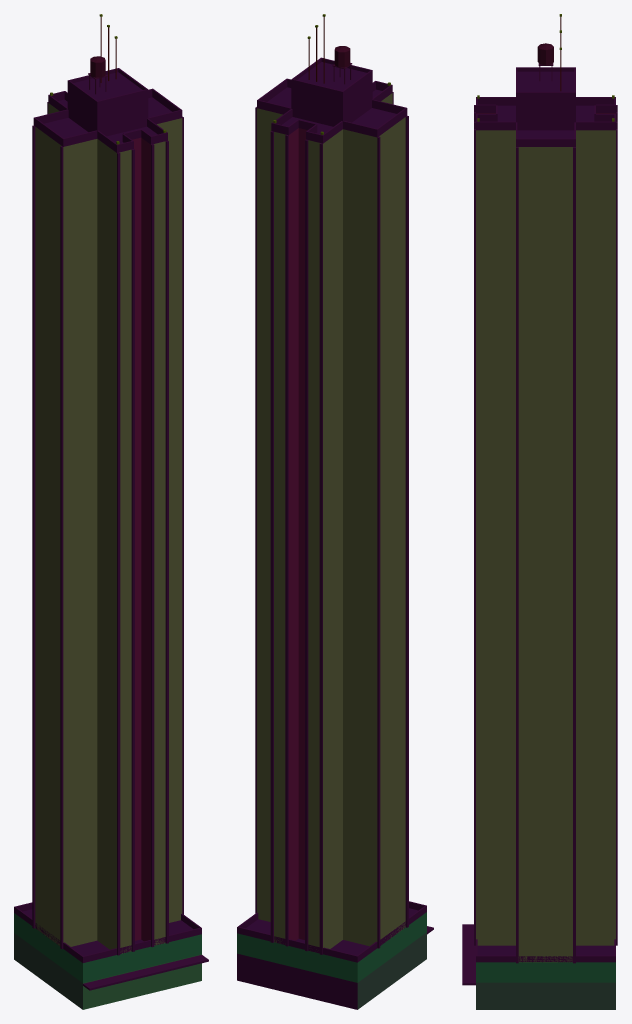
Rendered from restower_c.lod1.glb.
The picture shows the model from 3 angles, left to right: view 1: azimuth 30°, elevation 25°; view 2: azimuth 150°, elevation 25°; view 3: azimuth 270°, elevation 25°; orthographic projection.
Visible parts, largest first — view 1: restower_c.lod1; view 2: restower_c.lod1; view 3: restower_c.lod1.
Boxes of the visible parts, x1,y1,x2,y2 form: restower_c.lod1: (14,14,208,1009); restower_c.lod1: (237,14,433,1009); restower_c.lod1: (462,14,617,1009).
Size of the model in its own units: 23 by 171 by 24.89.
